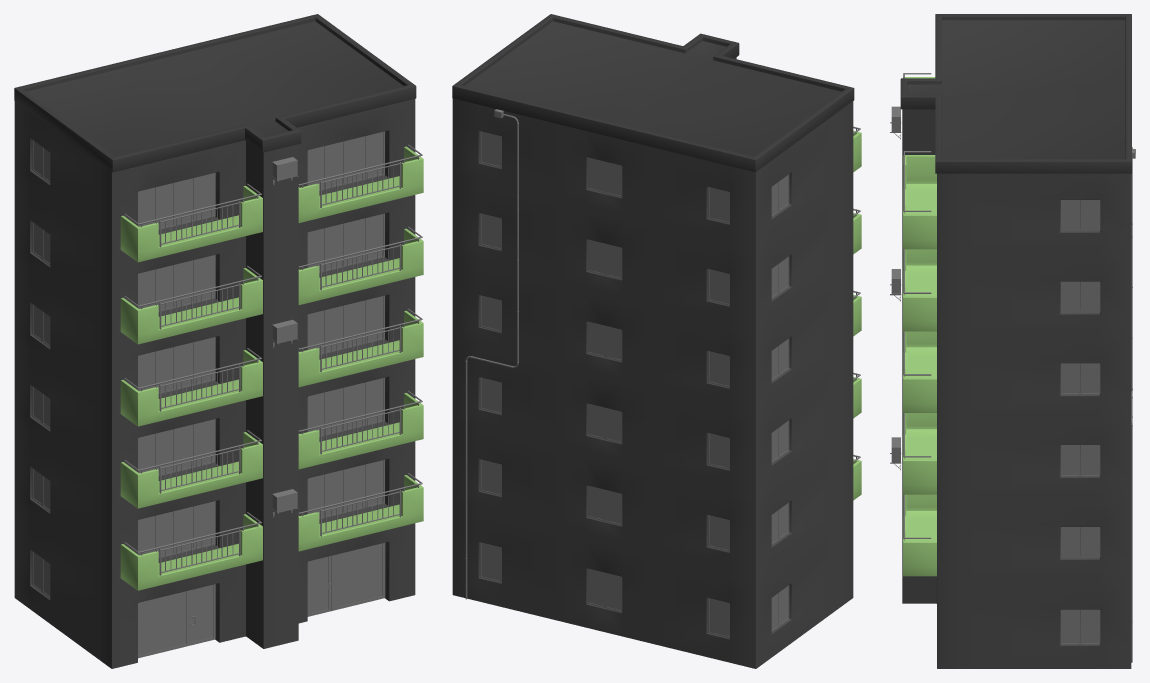
The model's file is SM_apartment_building_02.fbx.
3 renders of one model, left to right at view 1: azimuth 30°, elevation 25°; view 2: azimuth 150°, elevation 25°; view 3: azimuth 270°, elevation 25°, orthographic.
Parts seen in each view (by area): view 1: Object1284611; view 2: Object1284611; view 3: Object1284611.
Boxes of the visible parts, x1,y1,x2,y2 form: Object1284611: [14, 14, 423, 668]; Object1284611: [452, 14, 861, 668]; Object1284611: [890, 14, 1135, 668].
Bounding box in the file's own units: 542 × 868 × 381.
